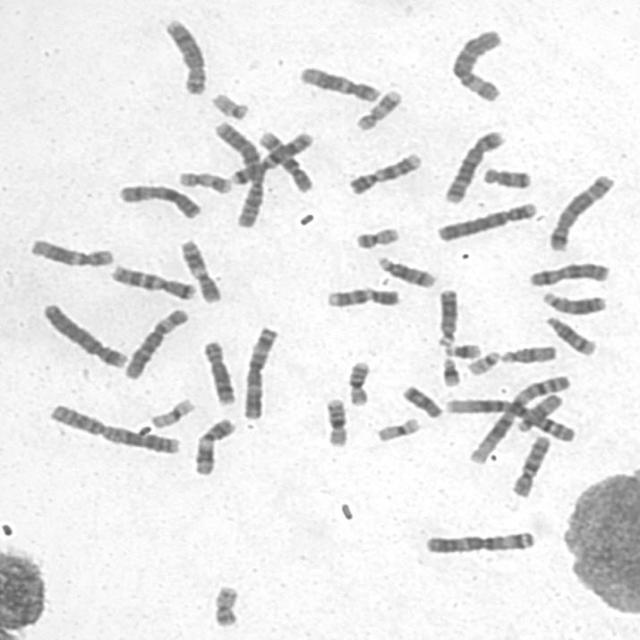A1: (463, 376, 569, 466), (442, 393, 579, 444)
A2: (44, 398, 184, 456), (208, 117, 266, 229)
A3: (238, 321, 281, 421), (420, 526, 538, 556)
B4: (38, 298, 130, 370), (431, 197, 540, 243)
B5: (543, 169, 617, 253), (440, 125, 508, 205)
C10: (254, 127, 316, 193), (506, 429, 553, 499)
C11: (175, 235, 223, 304), (189, 413, 237, 477)
C12: (294, 61, 382, 103), (24, 234, 116, 269)
C6: (119, 304, 192, 381), (446, 24, 506, 103)
C7: (226, 127, 316, 185), (105, 260, 198, 301)
C8: (158, 13, 210, 96), (197, 335, 238, 407)
C9: (344, 148, 424, 196), (321, 282, 403, 310)
D13: (538, 286, 609, 316), (432, 284, 461, 348)
D14: (540, 311, 599, 357), (372, 251, 438, 289)
D15: (511, 390, 564, 434), (496, 341, 559, 365)
E16: (319, 393, 351, 448), (343, 357, 373, 408)
E17: (351, 84, 404, 132), (173, 166, 234, 195)
E18: (397, 380, 445, 419), (477, 162, 534, 190)
F19: (145, 394, 196, 429), (372, 413, 422, 443)
F20: (208, 580, 242, 628), (350, 222, 402, 250)
G21: (441, 338, 484, 360), (437, 353, 463, 387)
G22: (206, 88, 251, 120), (463, 346, 502, 377)
X: (114, 178, 204, 221), (524, 257, 612, 288)
